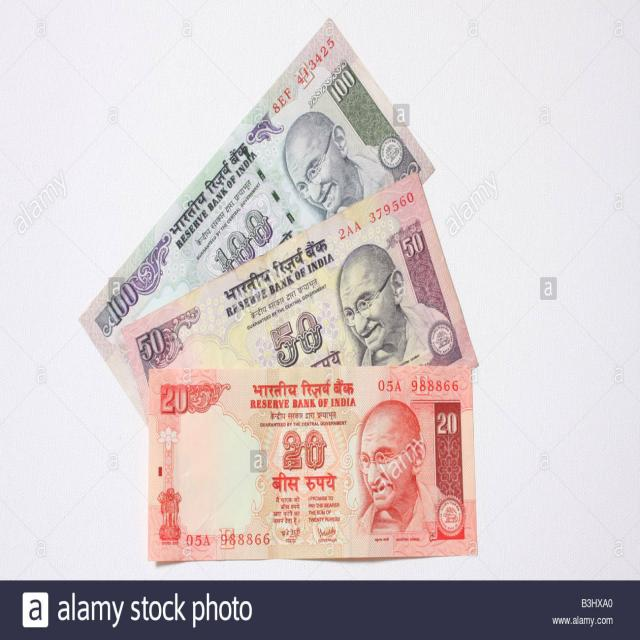20IndianRupees: (152, 372, 476, 558)
